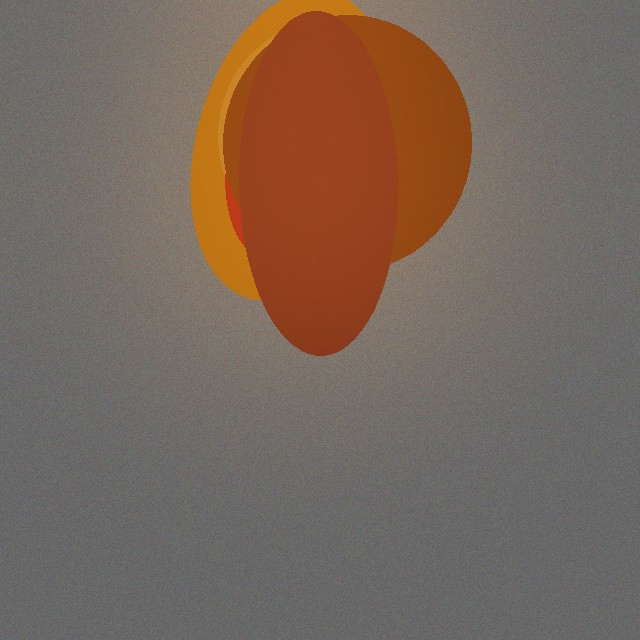fire: (181, 107, 441, 261)
